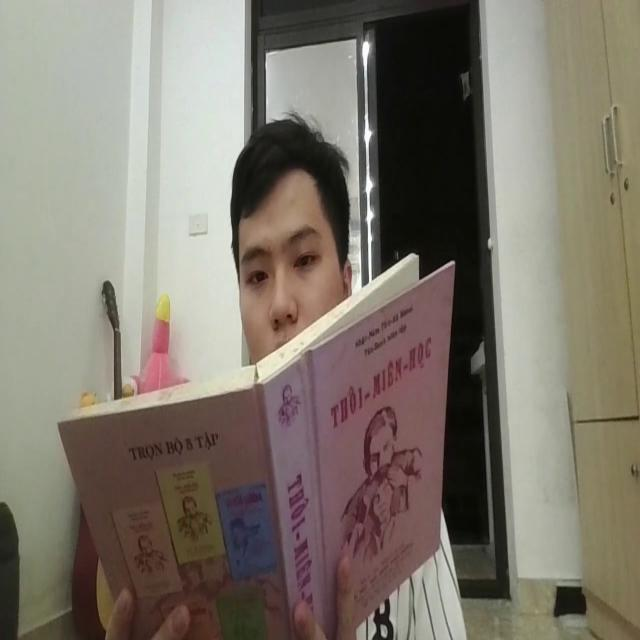book: (56, 243, 454, 640)
student: (228, 109, 352, 357)
